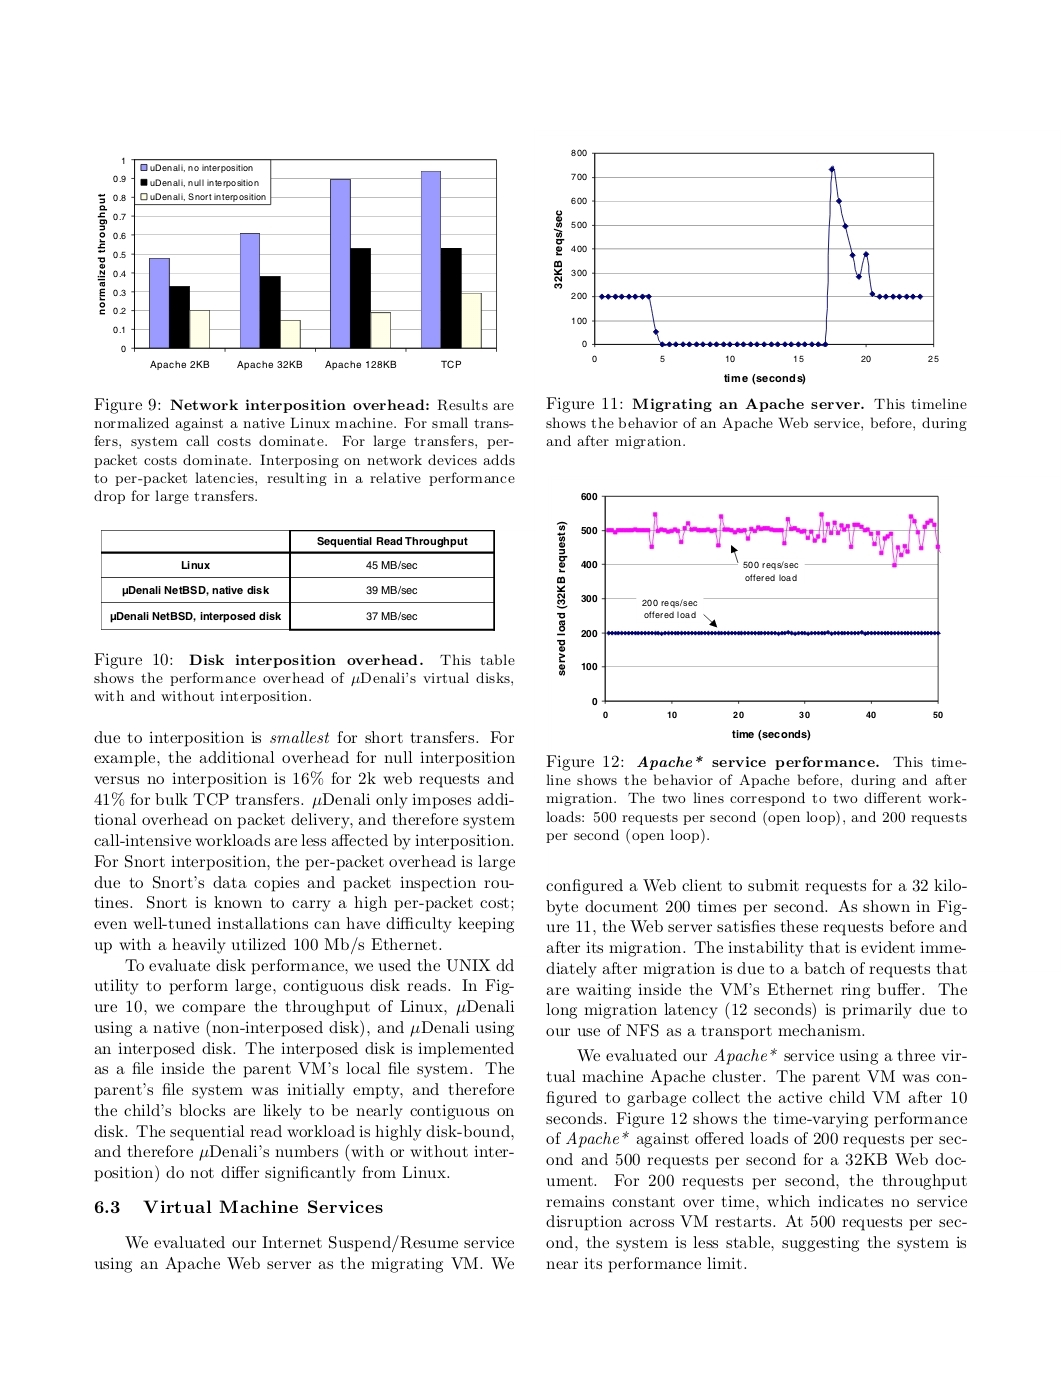Table: (101, 529, 494, 631)
figure: (557, 493, 942, 718), (97, 157, 496, 369), (553, 149, 938, 362)
